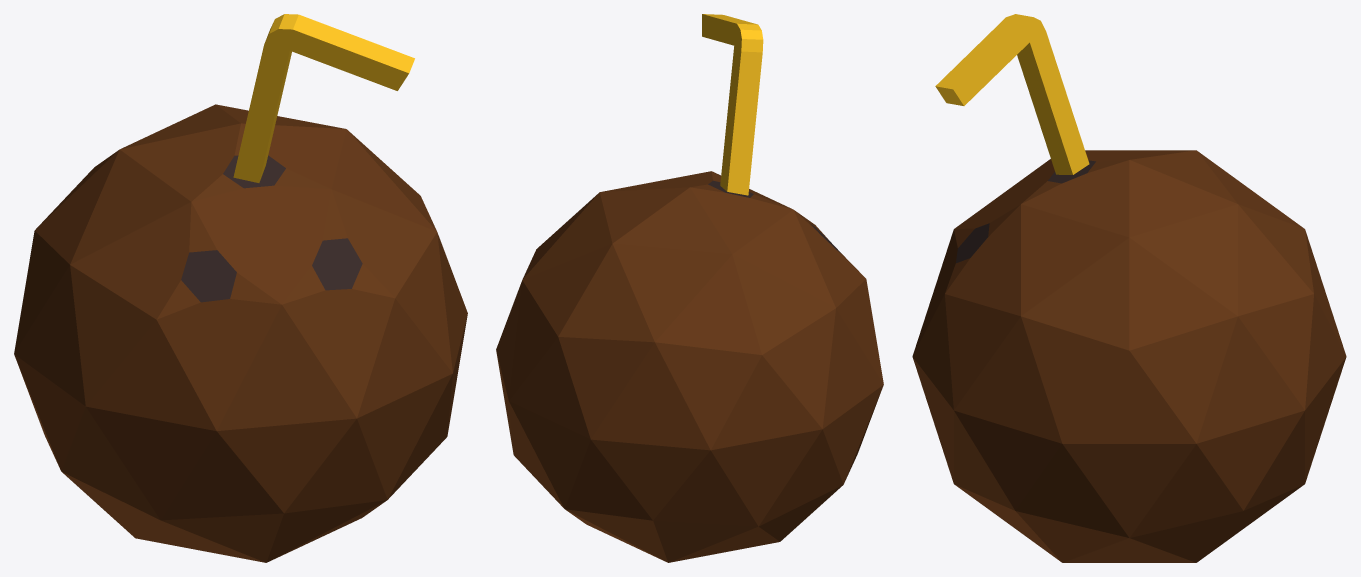
The model's file is CoconutDrink_tex.fbx.
3 renders of one model, left to right at view 1: azimuth 30°, elevation 25°; view 2: azimuth 150°, elevation 25°; view 3: azimuth 270°, elevation 25°, orthographic. The views are drawn at different scales.
Visible parts, largest first — view 1: CoconutDrink_tex; view 2: CoconutDrink_tex; view 3: CoconutDrink_tex.
Part boxes in pixels (bbox=[...]): CoconutDrink_tex: bbox=[14, 14, 467, 562]; CoconutDrink_tex: bbox=[496, 14, 883, 562]; CoconutDrink_tex: bbox=[912, 14, 1346, 562].
Bounding box in the file's own units: 0.2606 × 0.3717 × 0.274.
